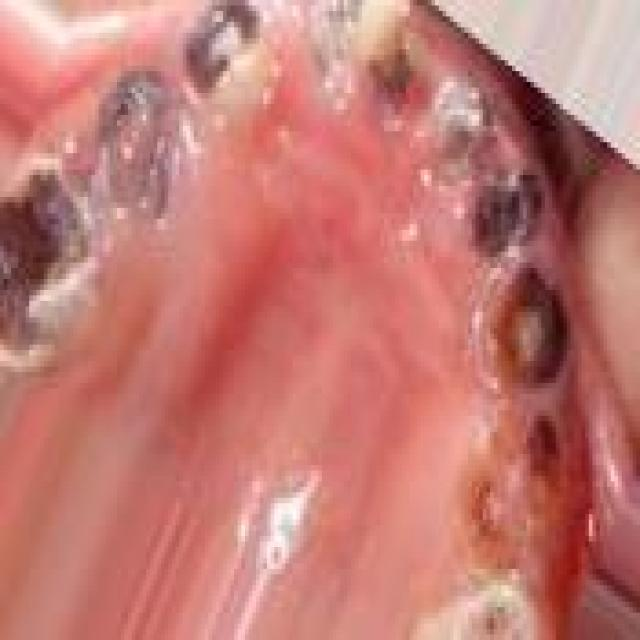caries: (0, 143, 107, 383), (86, 62, 201, 237), (462, 405, 572, 570), (464, 254, 579, 402), (304, 0, 420, 115), (175, 0, 276, 117), (463, 156, 551, 261), (416, 67, 501, 159)
